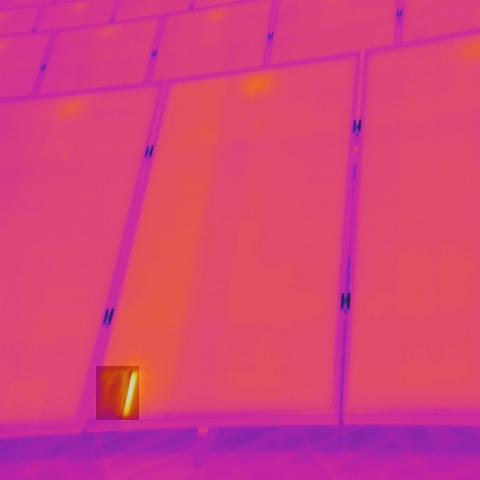fault: (96, 366, 139, 420)
